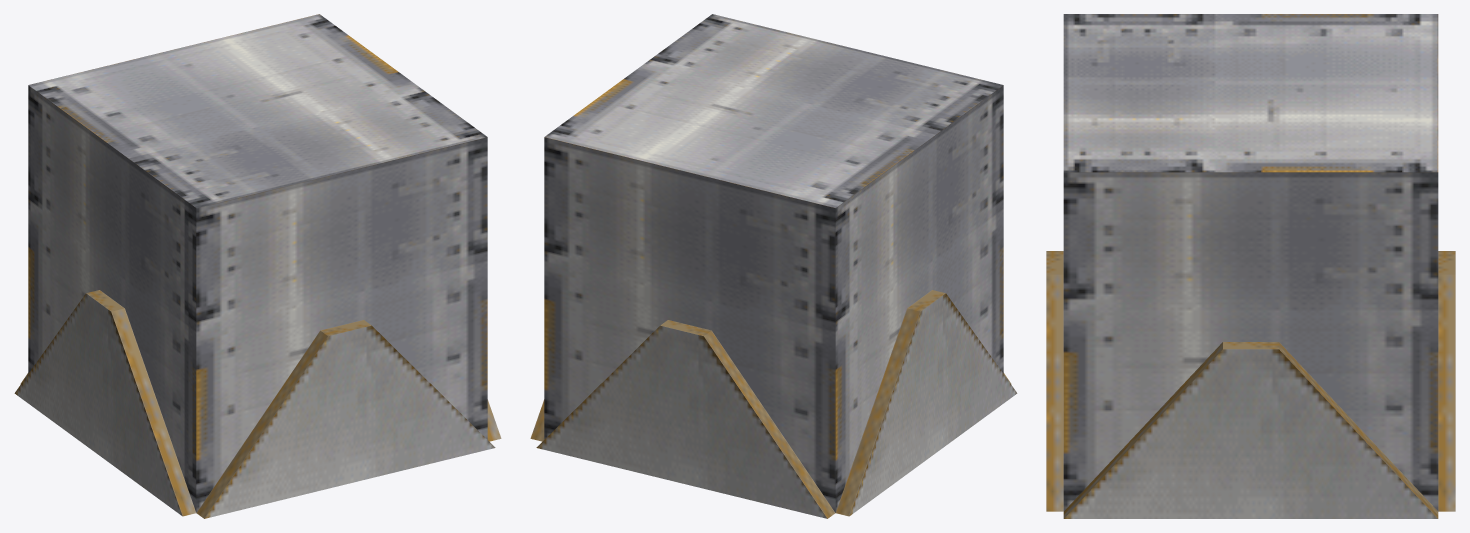
File: SpaceshipPart02.fbx
3 renders of one model, left to right at view 1: azimuth 30°, elevation 25°; view 2: azimuth 150°, elevation 25°; view 3: azimuth 270°, elevation 25°, orthographic. The views are drawn at different scales.
Parts seen in each view (by area): view 1: SpaceshipPart02; view 2: SpaceshipPart02; view 3: SpaceshipPart02.
Part boxes in pixels (bbox=[...]): SpaceshipPart02: bbox=[14, 14, 501, 518]; SpaceshipPart02: bbox=[530, 14, 1017, 518]; SpaceshipPart02: bbox=[1046, 14, 1455, 518].
Size of the model in its own units: 109 by 100 by 109.
